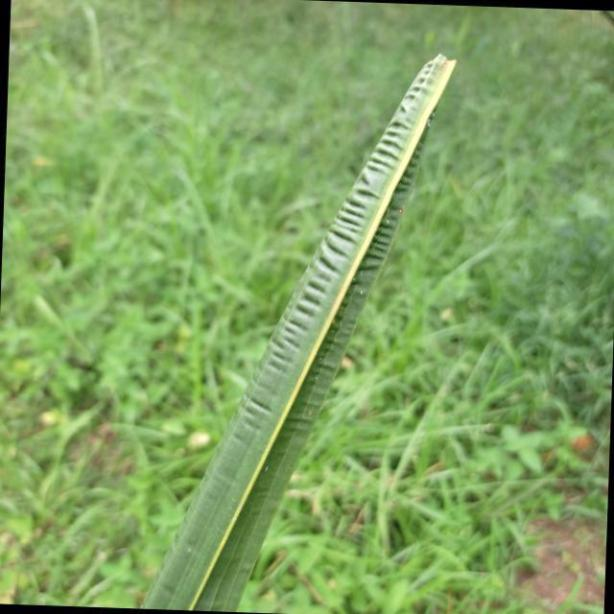Boron: (133, 49, 459, 614)
